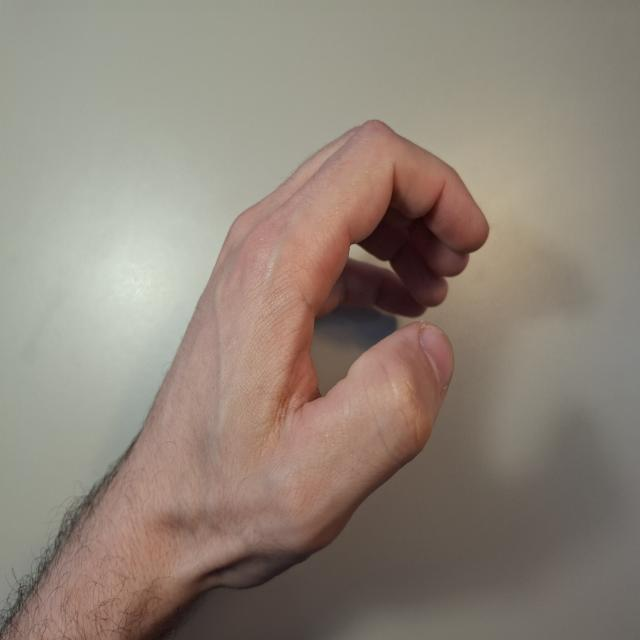glove_off: (126, 117, 492, 598)
